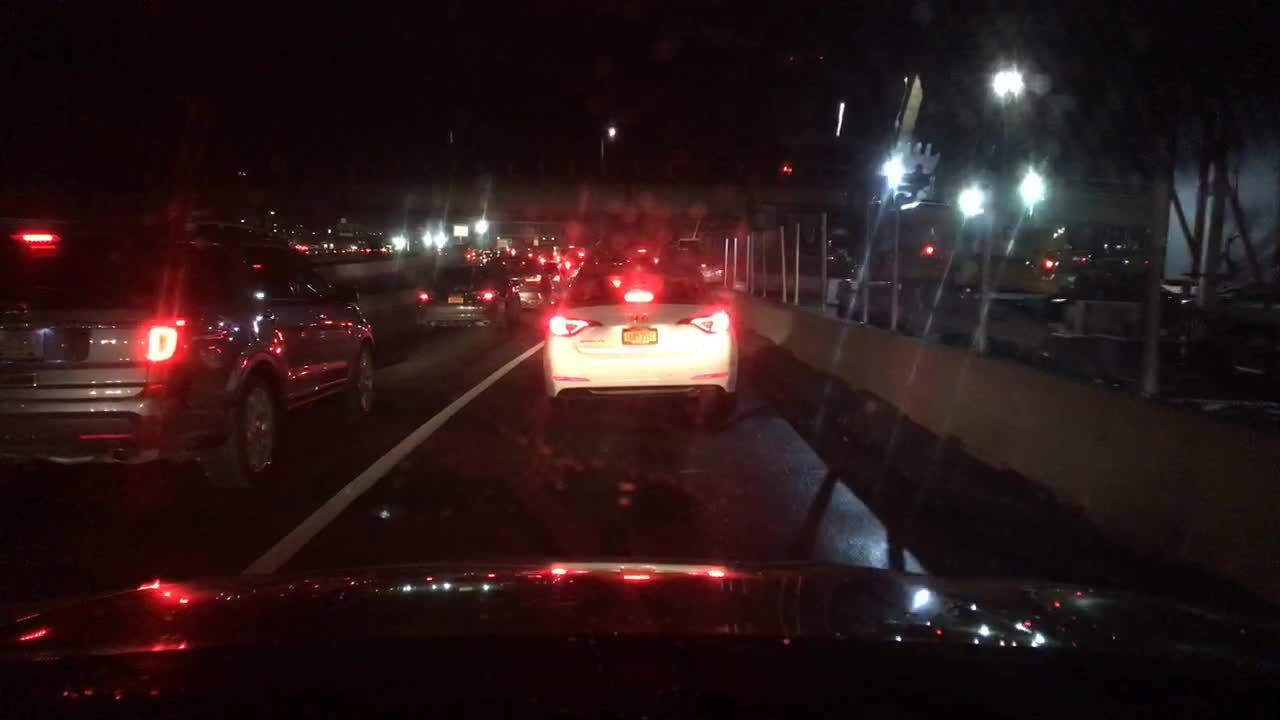car: (1, 224, 378, 495), (541, 250, 737, 430), (410, 261, 525, 334), (1063, 264, 1149, 300), (516, 271, 551, 311), (691, 258, 727, 285), (544, 268, 567, 296)
traffic light: (1044, 257, 1058, 269), (924, 240, 934, 255)
traffic sign: (450, 226, 467, 236)
